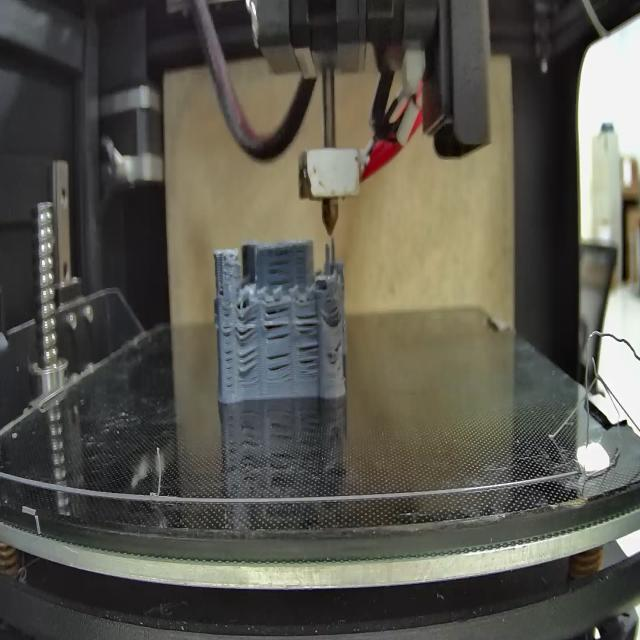cracks: (265, 246, 296, 290), (264, 308, 293, 344), (221, 309, 233, 395), (233, 306, 259, 342), (266, 350, 294, 382), (297, 343, 320, 376), (296, 311, 321, 338), (238, 349, 260, 378), (326, 299, 342, 329), (332, 338, 345, 356), (219, 279, 226, 299)
